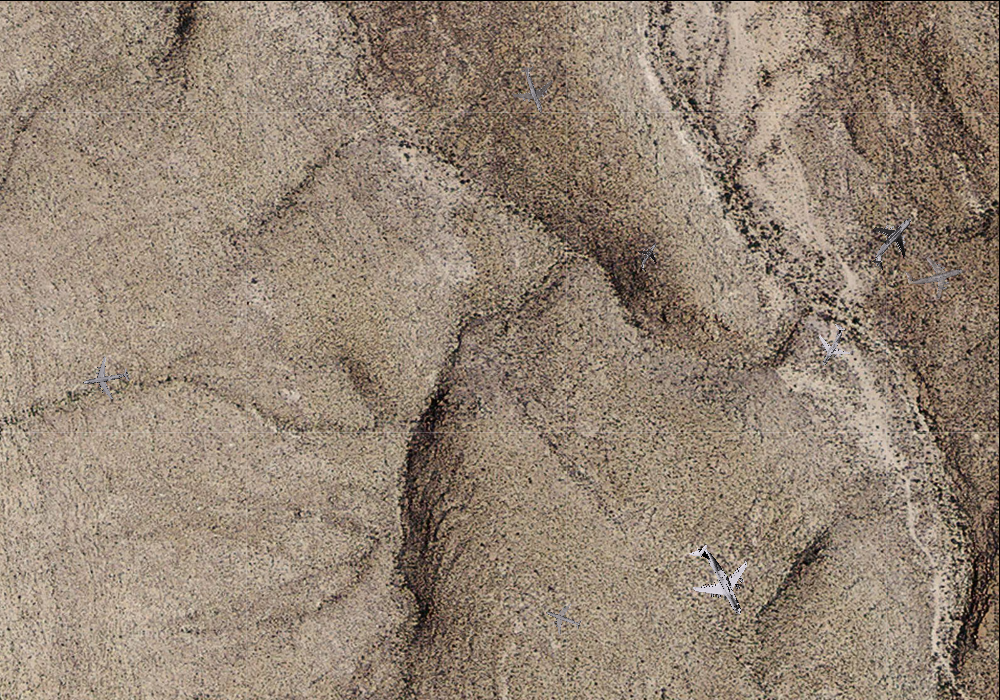plane: (670, 529, 768, 632), (854, 202, 932, 281), (900, 242, 970, 308), (504, 59, 564, 120), (803, 316, 861, 375), (79, 352, 133, 404), (540, 596, 586, 641), (629, 236, 669, 277)
